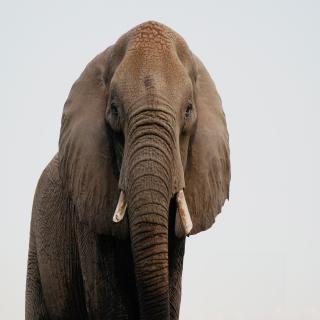Elephant: (22, 17, 240, 320)
